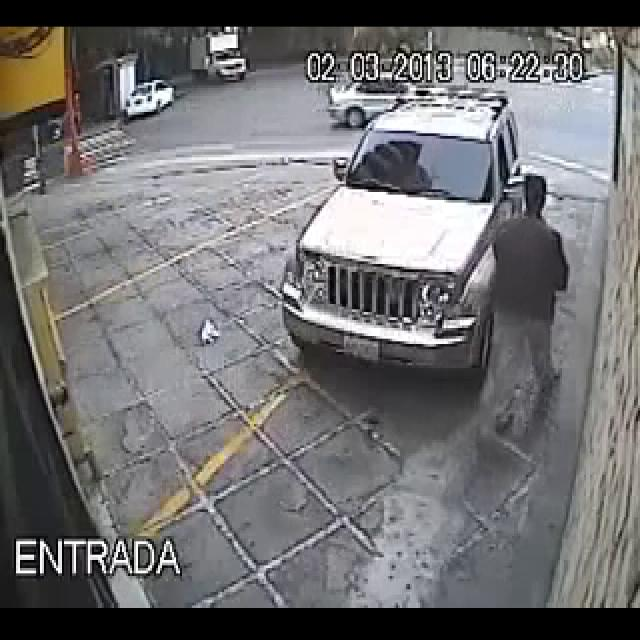shooting: (346, 3, 578, 493)
